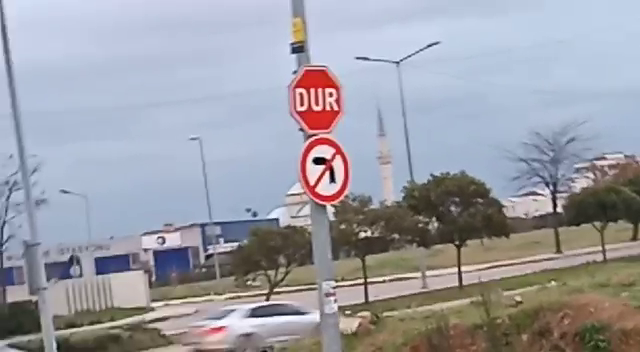no_left: (295, 133, 353, 208)
stop: (284, 62, 347, 136)
